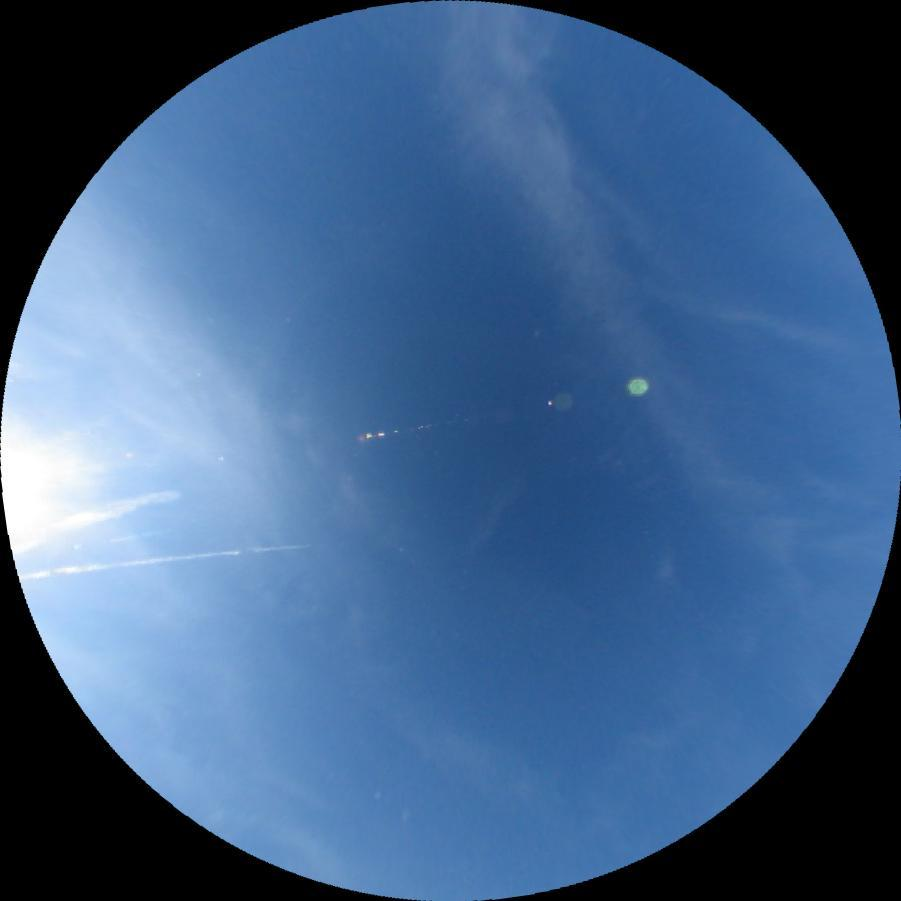contrail veryold: (4, 476, 179, 553)
parasite: (16, 536, 305, 581)
sun: (0, 436, 61, 554)
